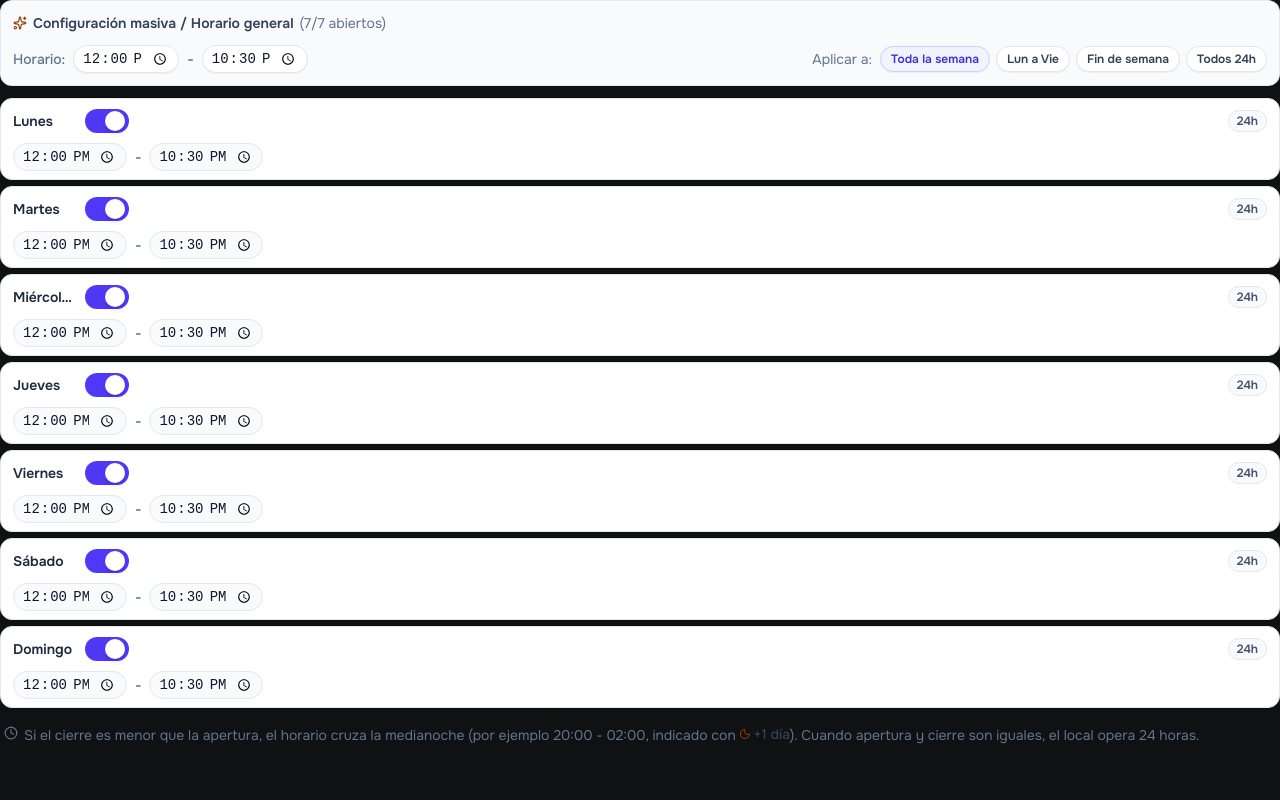
Test case: WeeklyScheduleEditor › displays visual feedback when applying a bulk schedule action
Click the button "Toda la semana" at x=935, y=59, box top-left (880, 46), bottom-right (990, 72)
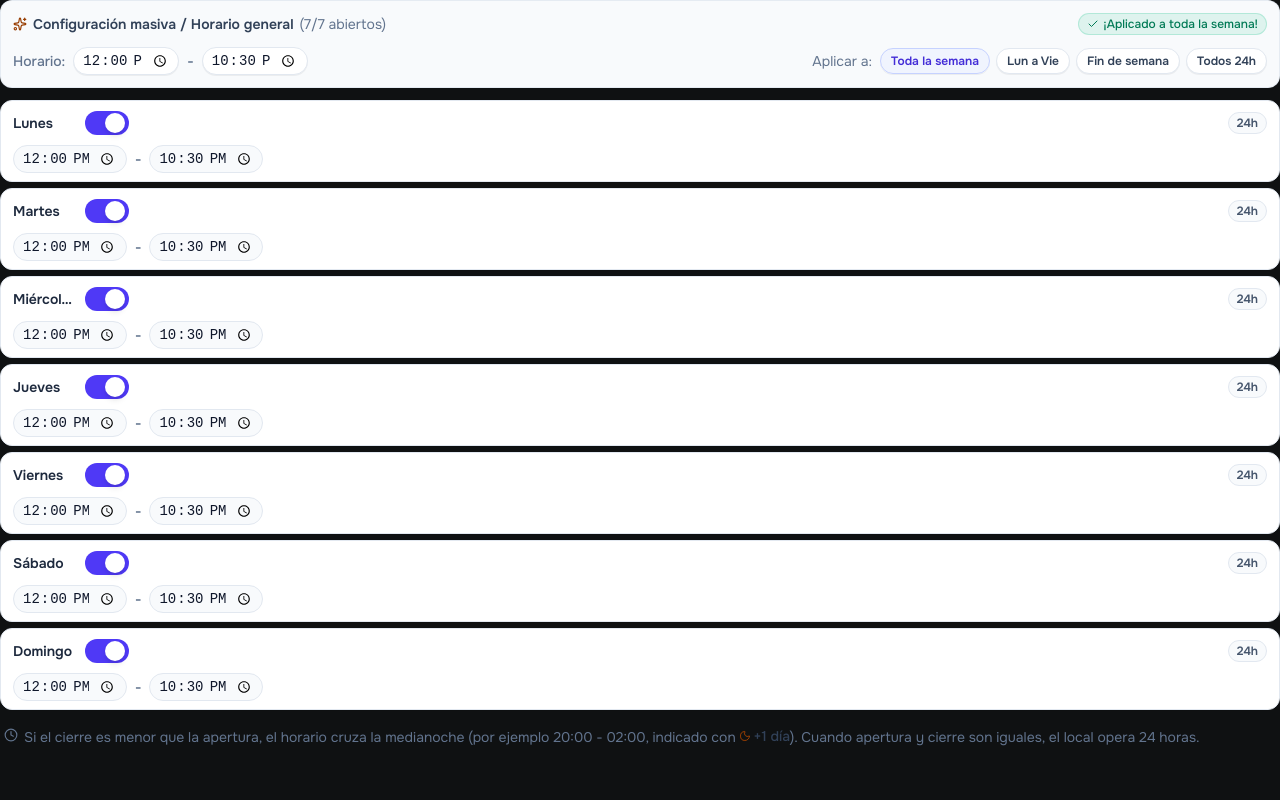
Expected: the text "¡Aplicado a toda la semana!" is shown, top-left (1103, 16), bottom-right (1258, 32)
